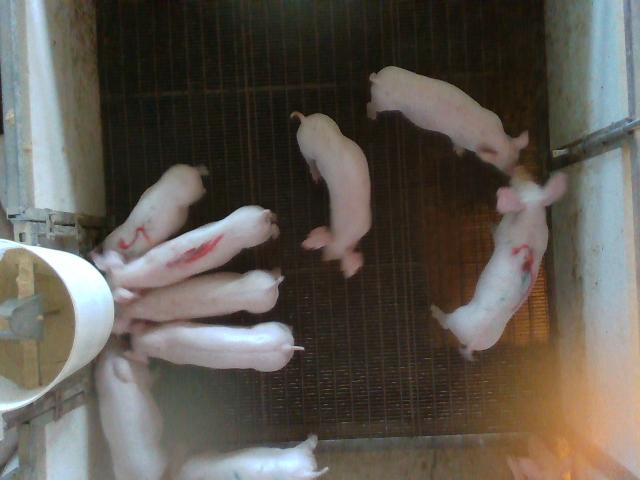pig-1: (93, 206, 279, 304)
pig-3: (431, 168, 568, 358)
pig-5: (102, 165, 206, 261)
